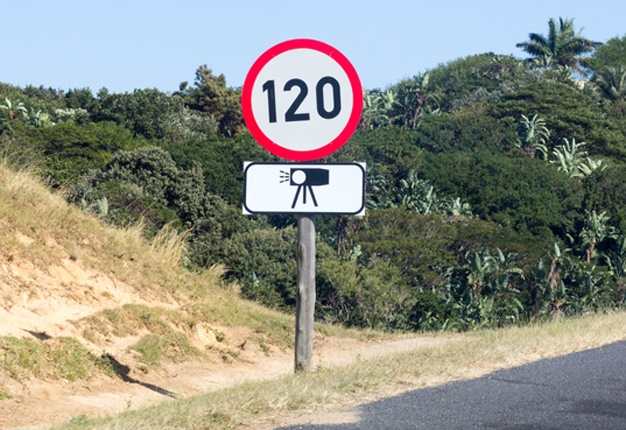Speed_limit_120km: (239, 37, 365, 162)
